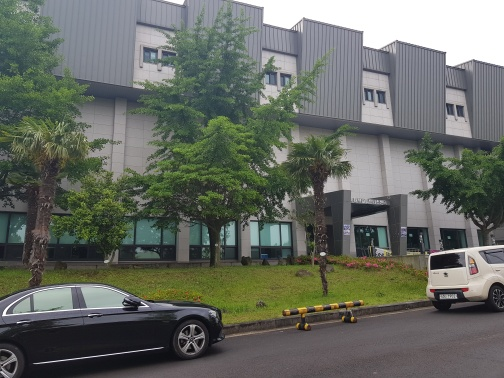Gym: (35, 3, 501, 248), (291, 12, 504, 151), (301, 183, 417, 258)
